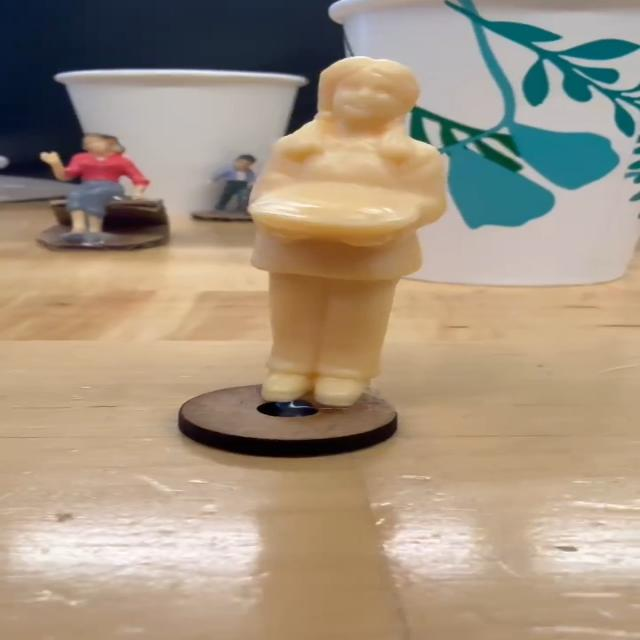Unauthorized: (187, 50, 480, 474)
